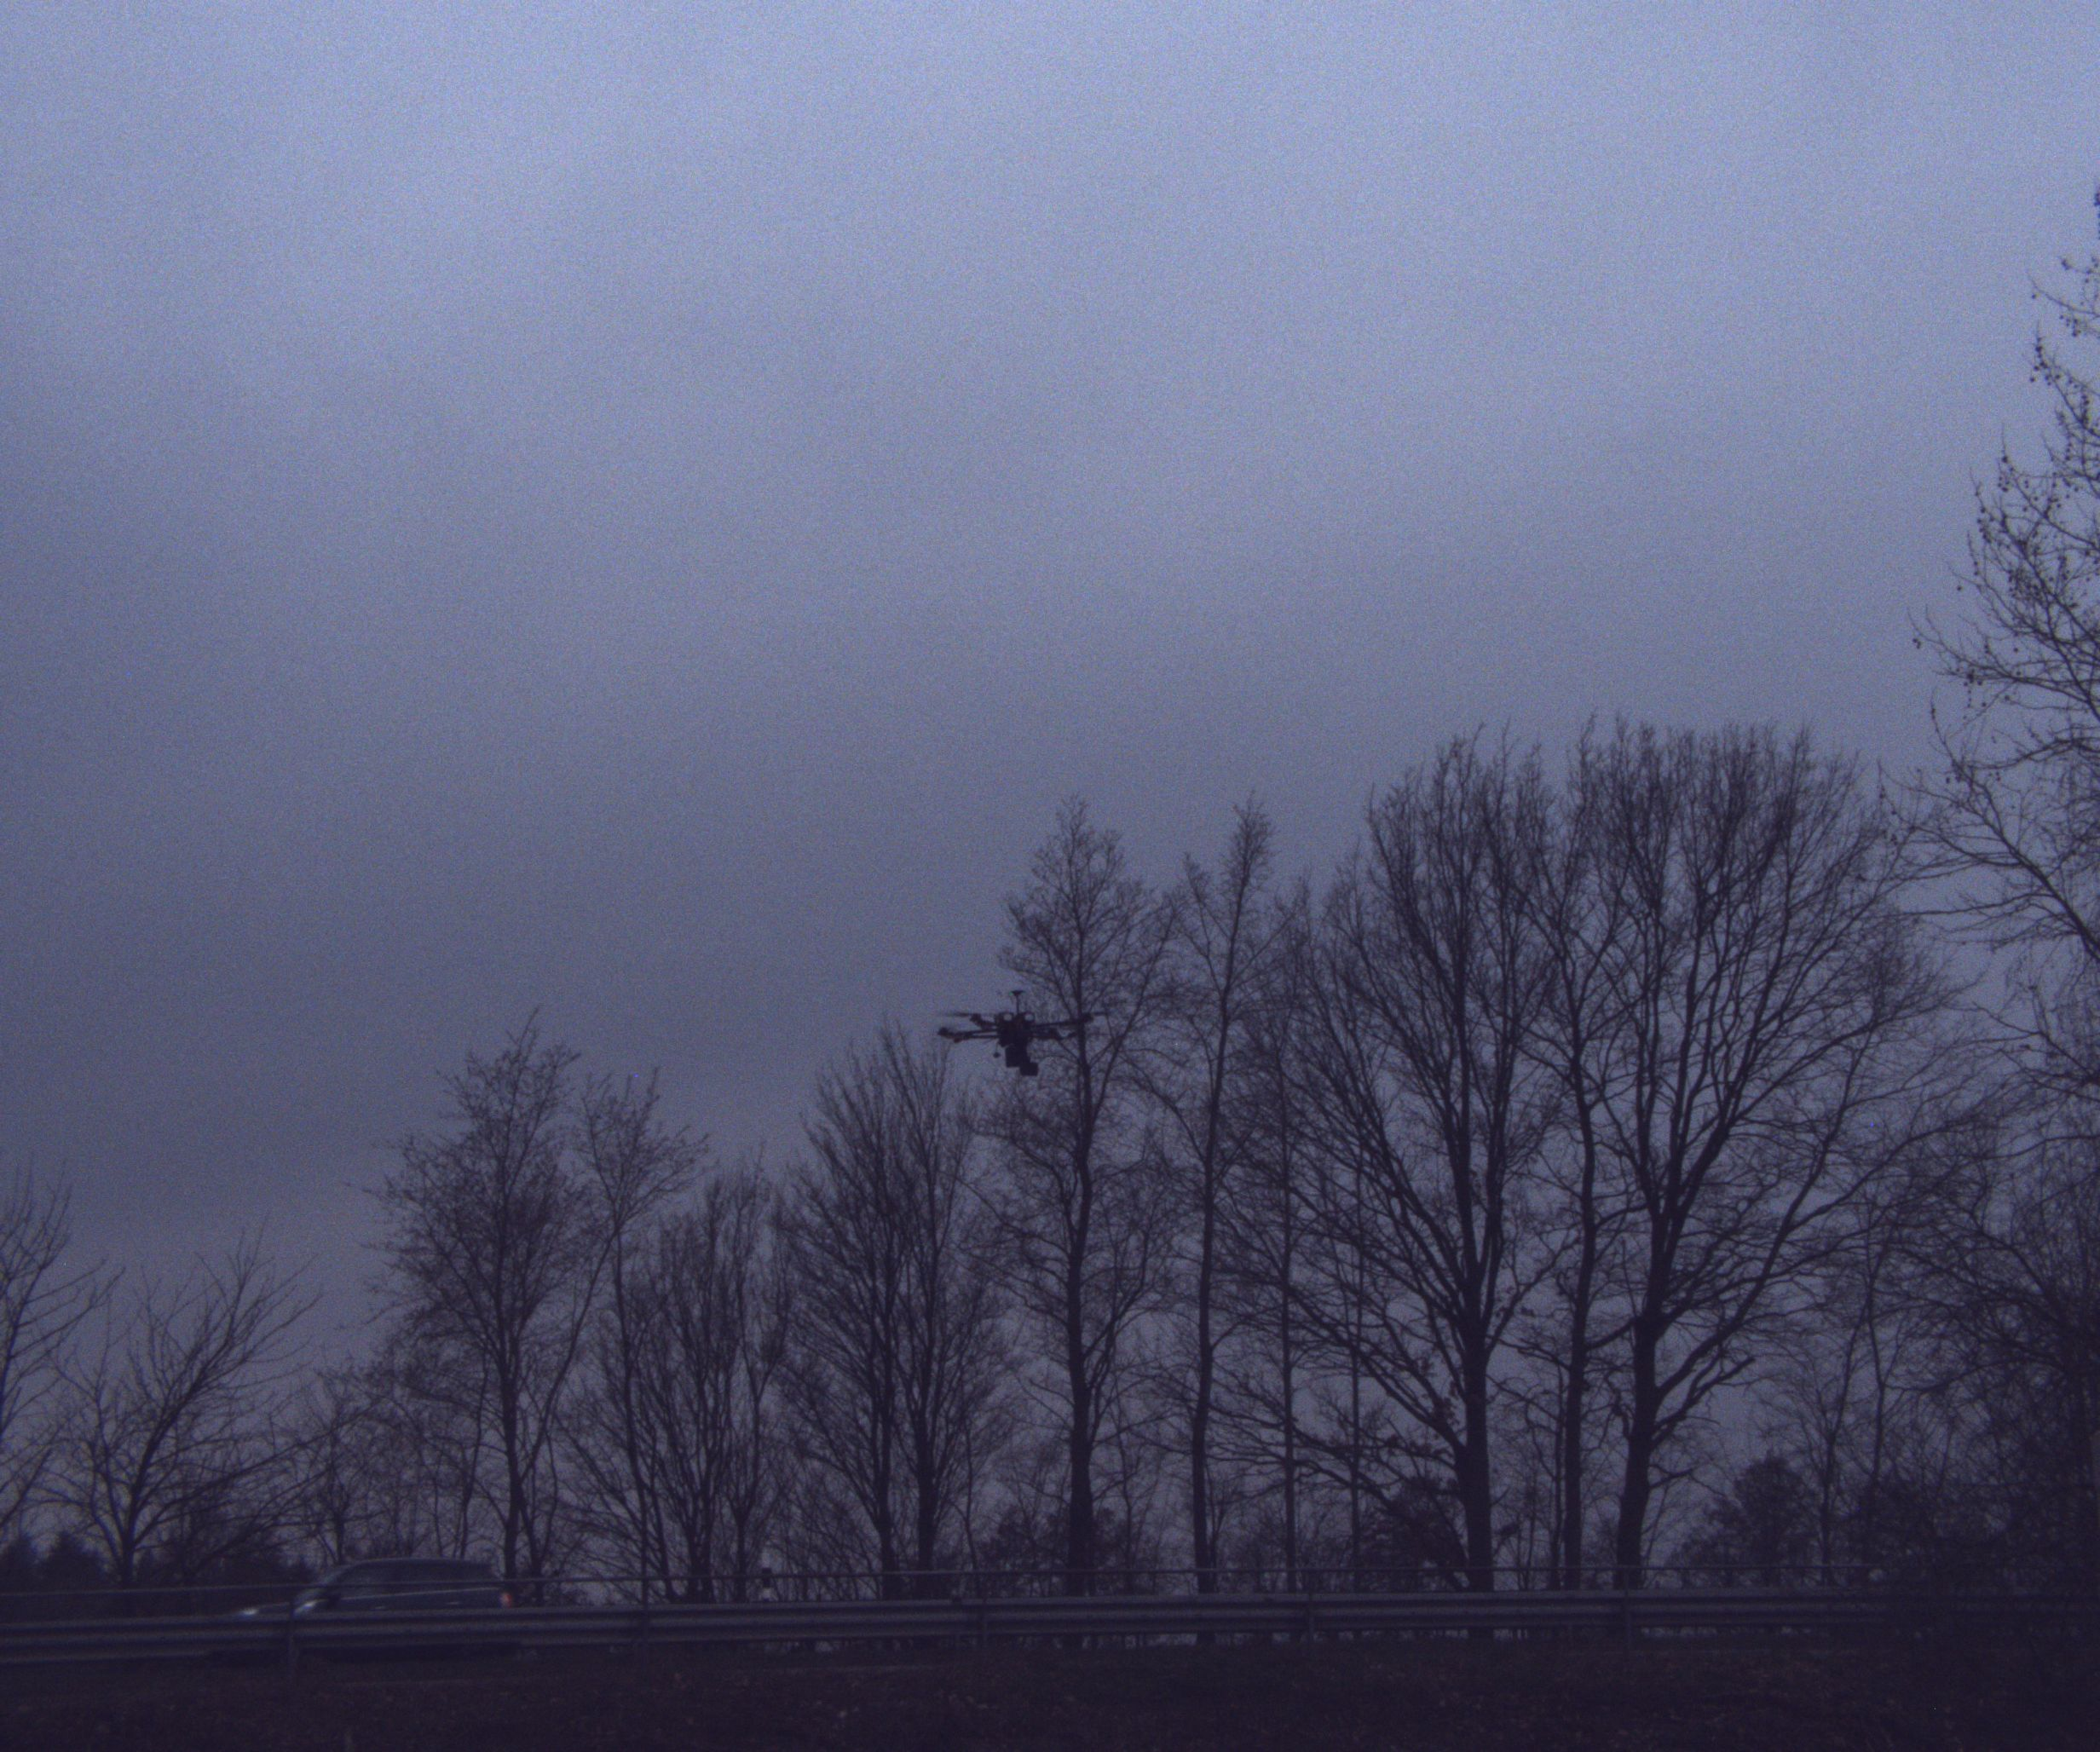Drohne: (862, 959, 1238, 1119)
